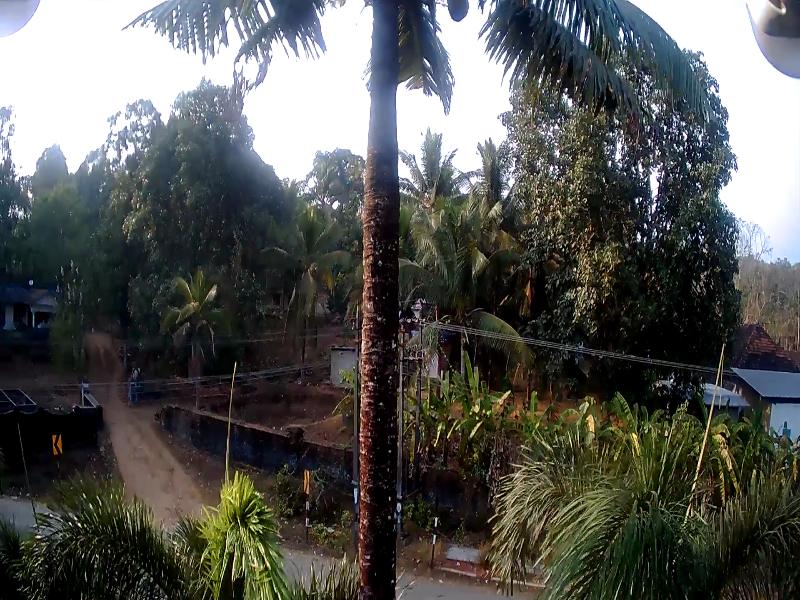coconut: (449, 5, 472, 27)
